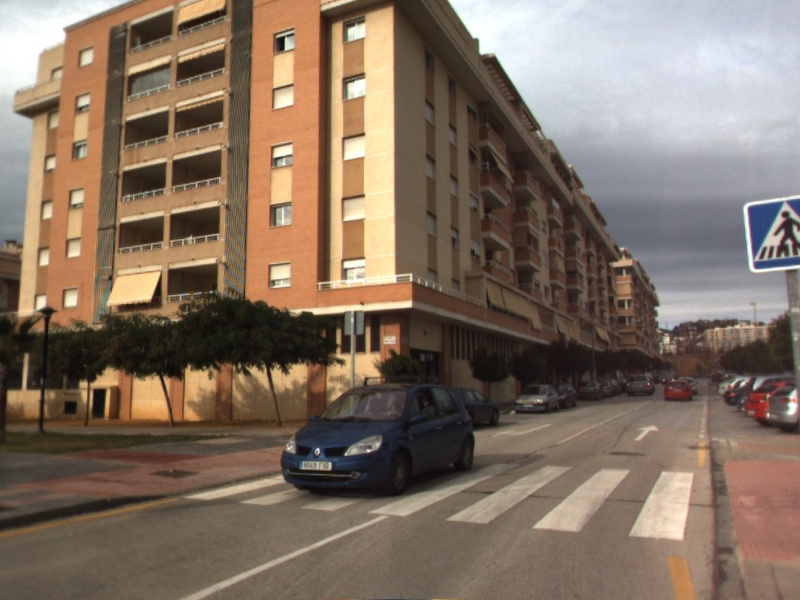STRAIGHT: (632, 422, 662, 443)
